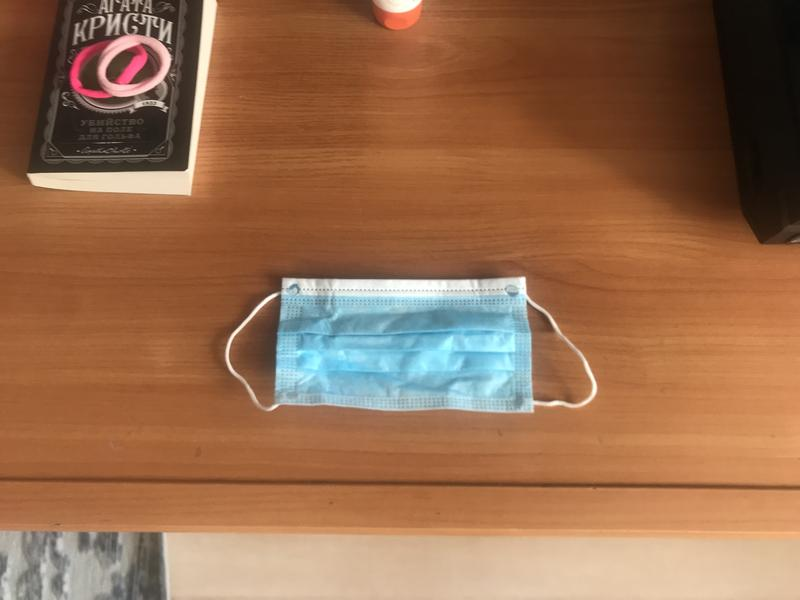medical_mask: (226, 280, 598, 411)
